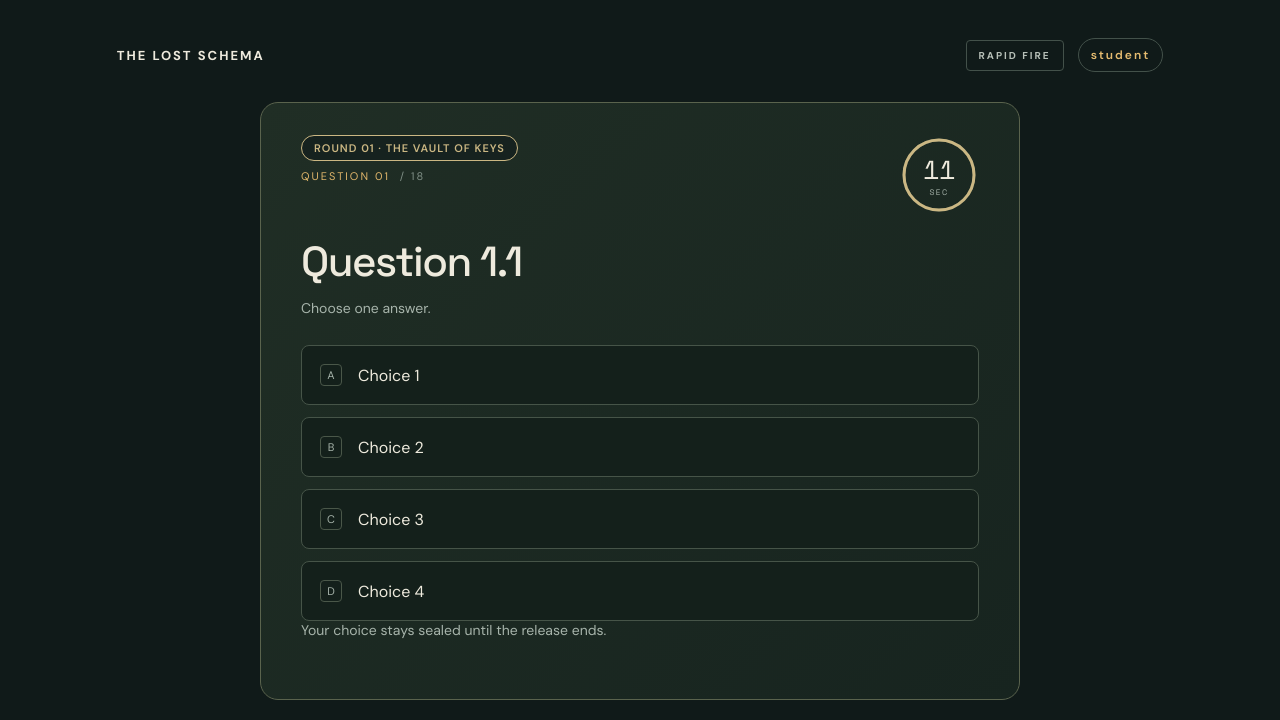
it: student question lifecycle › removes question content immediately on sign-out and ignores late responses
The image size is (1280, 720).
Click the button "A Choice 1" at (389, 375), box [301, 345, 979, 405]
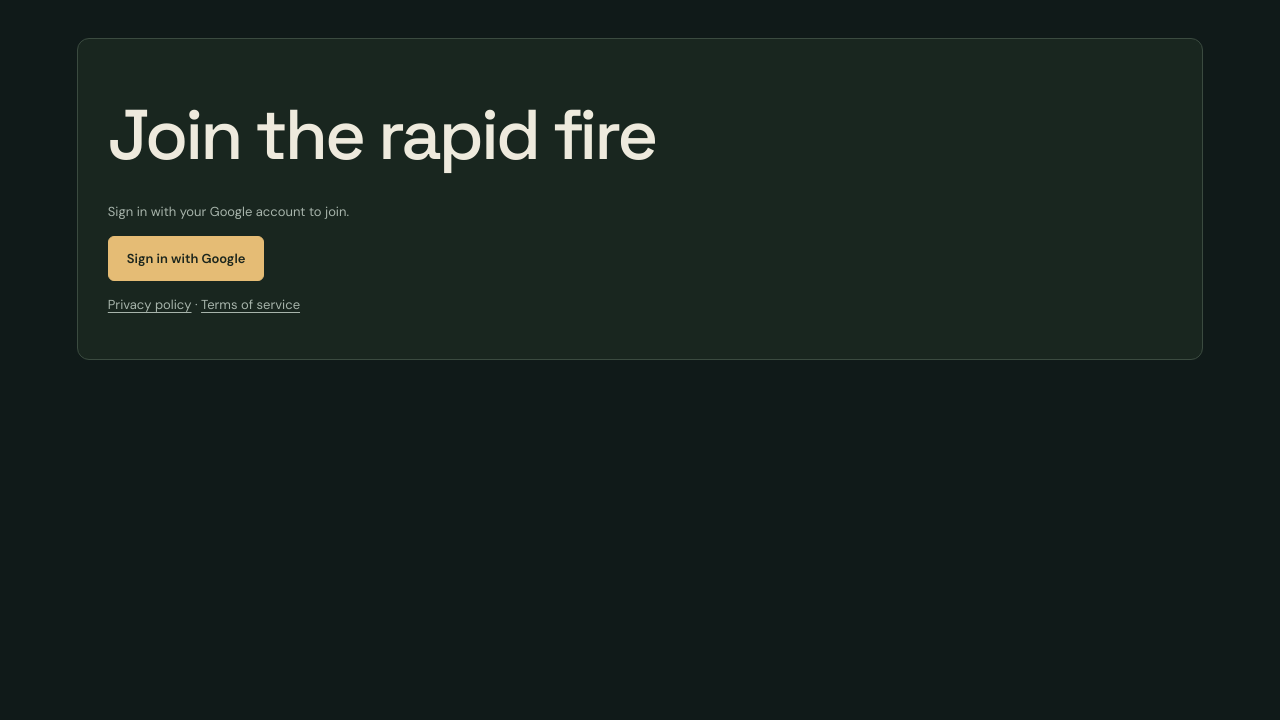
Expected: the heading "Question 1.1" is gone
Expected: the button "Sign in with Google" is shown, [108, 236, 264, 281]
